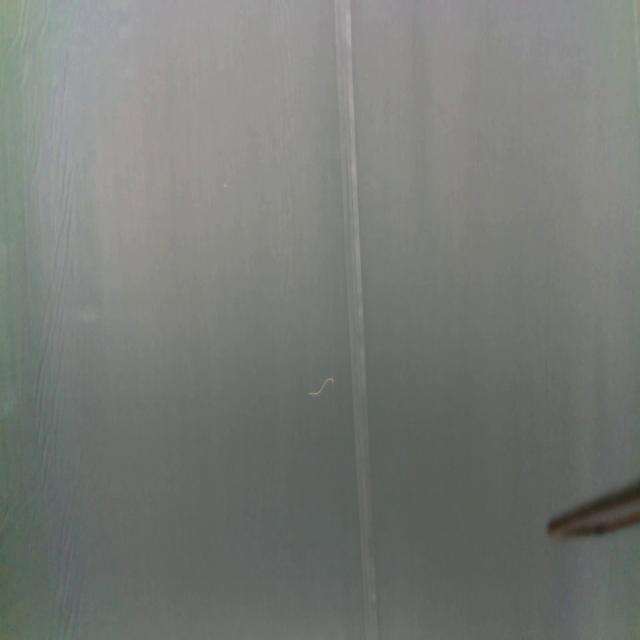crease: (335, 0, 377, 640)
